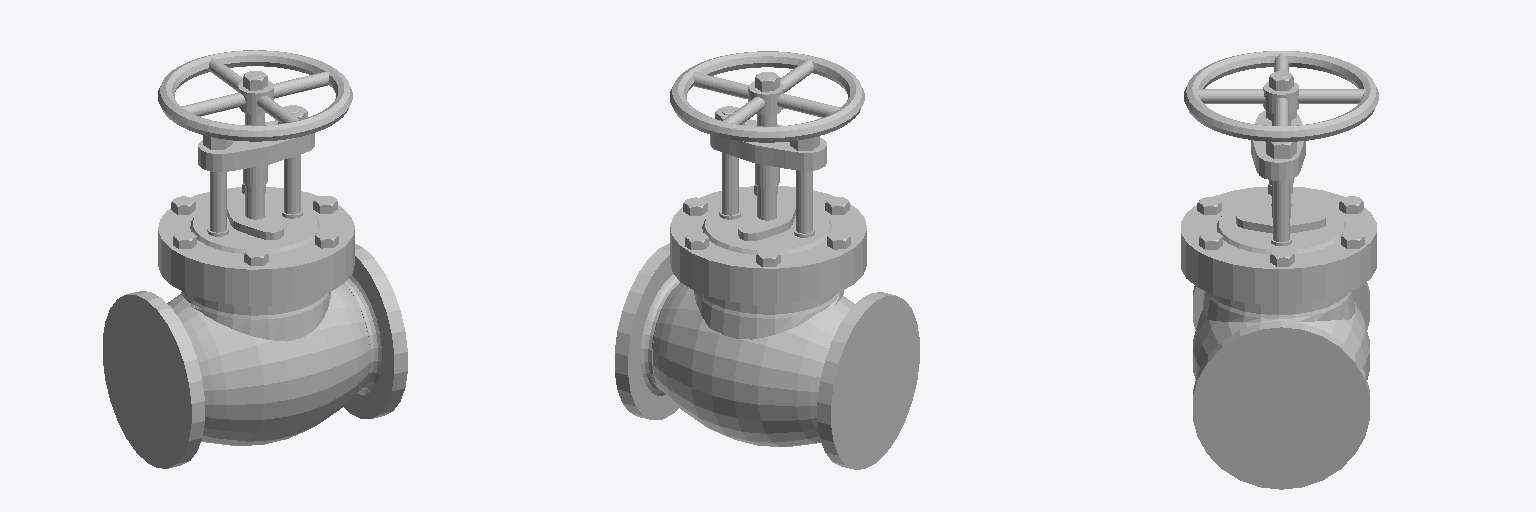
Rendered from valve2.obj.
3 renders of one model, left to right at view 1: azimuth 30°, elevation 25°; view 2: azimuth 150°, elevation 25°; view 3: azimuth 270°, elevation 25°, orthographic.
Parts seen in each view (by area): view 1: Cylinder, Cylinder.002, Cylinder.006, BezierCircle, Cylinder.005, Cylinder.007, Cube.001, Bolt.008, Cylinder.011, Cylinder.003, Bolt.006, Cube_Cube.002 (+2 smaller); view 2: Cylinder.002, Cylinder, Cylinder.006, BezierCircle, Cylinder.005, Cylinder.007, Cube.001, Bolt.008, Cylinder.011, Cylinder.003, Bolt.006, Cube_Cube.002 (+2 smaller); view 3: Cylinder, Cylinder.006, BezierCircle, Cylinder.007, Cylinder.005, Cylinder.002, Cylinder.001, Bolt.007, Cube.001, Cube_Cube.002, Bolt.008, Cylinder.011.
Boxes of the visible parts, x1=… form: Cylinder: x1=103, y1=244, x2=407, y2=468; Cylinder.002: x1=167, y1=284, x2=369, y2=445; Cylinder.006: x1=158, y1=187, x2=354, y2=305; BezierCircle: x1=158, y1=50, x2=352, y2=141; Cylinder.005: x1=181, y1=292, x2=330, y2=341; Cylinder.007: x1=190, y1=197, x2=319, y2=253; Cube.001: x1=198, y1=120, x2=314, y2=171; Bolt.008: x1=238, y1=71, x2=273, y2=219; Cylinder.011: x1=182, y1=71, x2=329, y2=116; Cylinder.003: x1=344, y1=275, x2=381, y2=394; Bolt.006: x1=203, y1=135, x2=232, y2=236; Cube_Cube.002: x1=227, y1=198, x2=283, y2=239; Cylinder.002: x1=653, y1=283, x2=854, y2=446; Cylinder: x1=615, y1=243, x2=919, y2=469; Cylinder.006: x1=670, y1=186, x2=866, y2=304; BezierCircle: x1=670, y1=51, x2=864, y2=142; Cylinder.005: x1=694, y1=290, x2=843, y2=339; Cylinder.007: x1=702, y1=198, x2=831, y2=254; Cube.001: x1=710, y1=119, x2=826, y2=170; Bolt.008: x1=748, y1=72, x2=783, y2=220; Cylinder.011: x1=693, y1=72, x2=840, y2=117; Cylinder.003: x1=641, y1=274, x2=680, y2=395; Bolt.006: x1=790, y1=136, x2=819, y2=237; Cube_Cube.002: x1=738, y1=199, x2=795, y2=240; Cylinder: x1=1193, y1=282, x2=1369, y2=489; Cylinder.006: x1=1181, y1=186, x2=1376, y2=305; BezierCircle: x1=1184, y1=51, x2=1378, y2=141; Cylinder.007: x1=1217, y1=198, x2=1345, y2=254; Cylinder.005: x1=1203, y1=291, x2=1354, y2=322; Cylinder.002: x1=1193, y1=301, x2=1369, y2=379; Cylinder.001: x1=1196, y1=89, x2=1365, y2=103; Bolt.007: x1=1266, y1=142, x2=1296, y2=245; Cube.001: x1=1251, y1=111, x2=1305, y2=180; Cube_Cube.002: x1=1236, y1=206, x2=1325, y2=233; Bolt.008: x1=1263, y1=71, x2=1298, y2=217; Cylinder.011: x1=1274, y1=54, x2=1288, y2=125.
Size of the model in its own units: 0.1001 by 0.1598 by 0.0794.